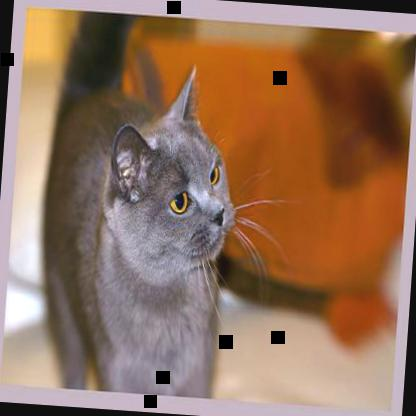cat: (30, 8, 248, 399)
